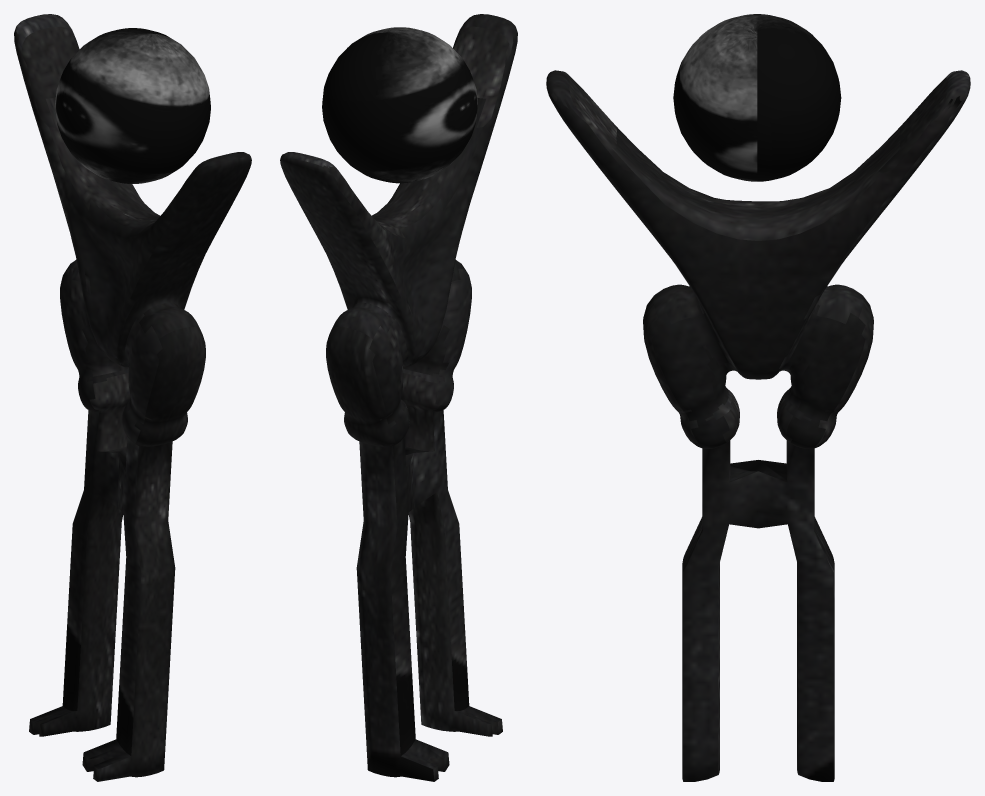
Rendered from HiderFix.fbx.
3 renders of one model, left to right at view 1: azimuth 30°, elevation 25°; view 2: azimuth 150°, elevation 25°; view 3: azimuth 270°, elevation 25°, orthographic. The views are drawn at different scales.
Parts seen in each view (by area): view 1: Cube.104, Sphere.009; view 2: Cube.104, Sphere.009; view 3: Cube.104, Sphere.009.
Boxes of the visible parts, left/top/right/bottom form: Cube.104: left=14, top=14, right=251, bottom=781; Sphere.009: left=55, top=28, right=210, bottom=183; Cube.104: left=280, top=14, right=517, bottom=781; Sphere.009: left=322, top=27, right=477, bottom=183; Cube.104: left=546, top=70, right=970, bottom=781; Sphere.009: left=673, top=14, right=841, bottom=181.
Size of the model in its own units: 203 by 1003 by 505.
2 materials, 2 textured.
